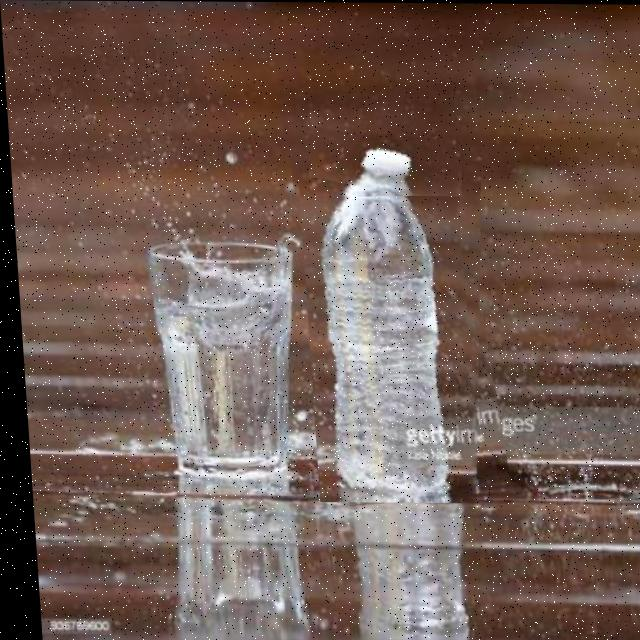litter: (294, 139, 497, 503), (307, 133, 463, 197)
